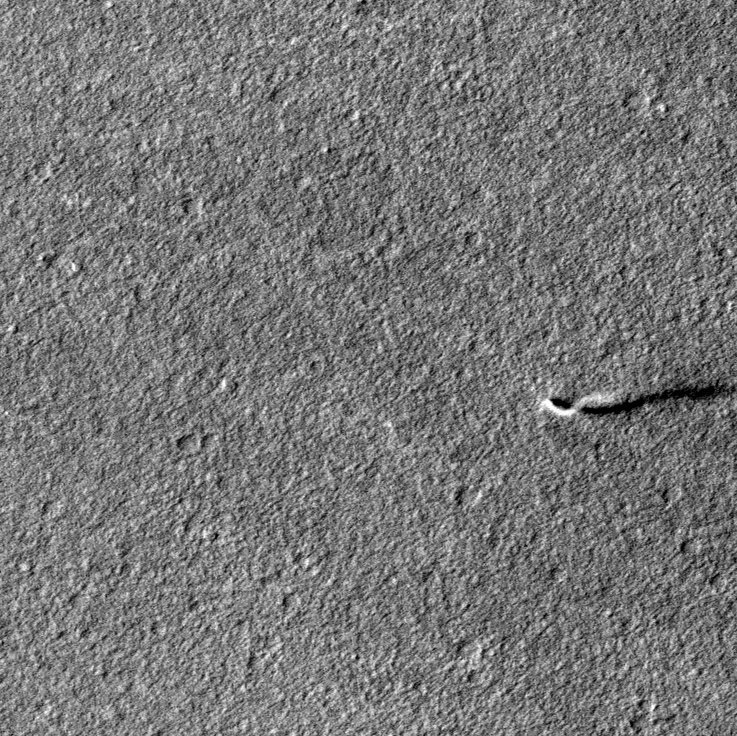dust_devil: (535, 380, 737, 422)
